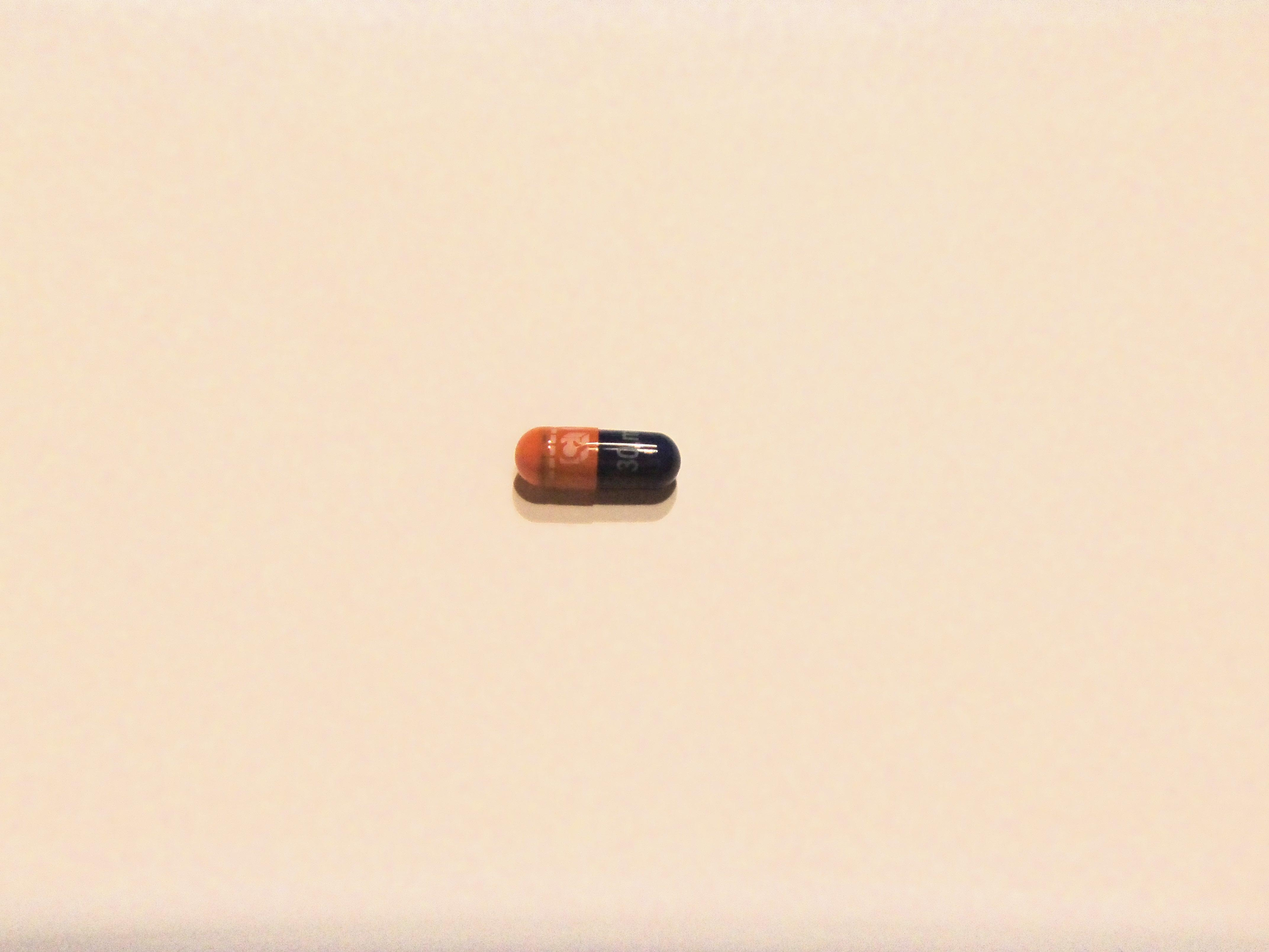Pill: (502, 413, 695, 512)
